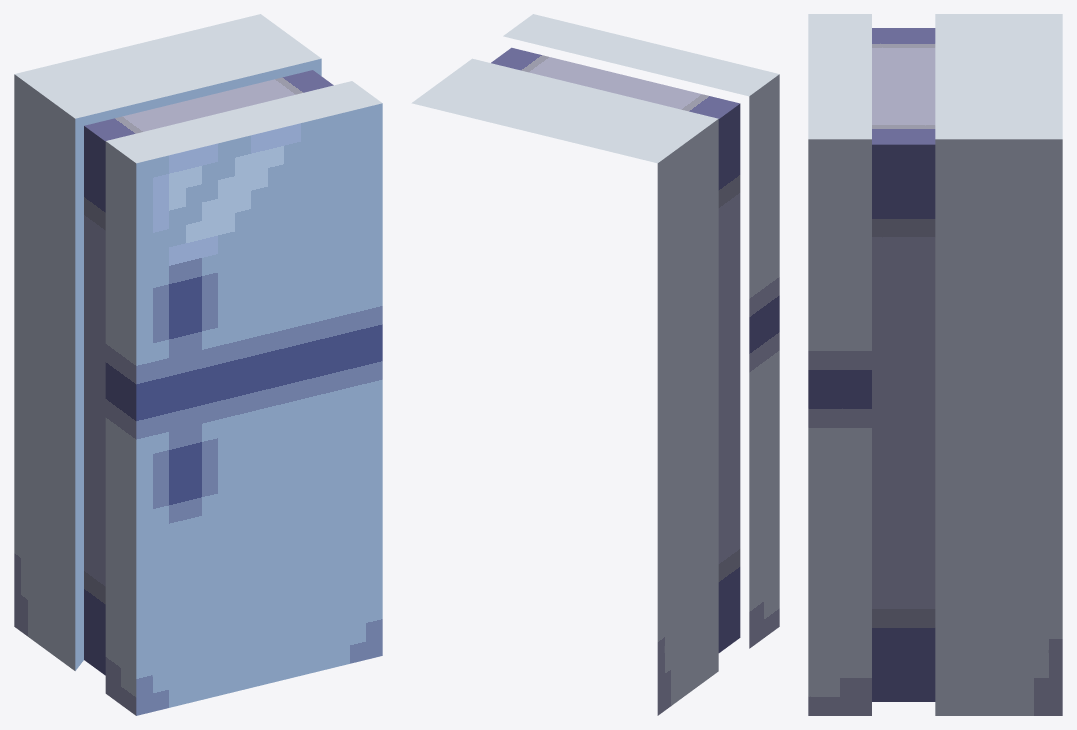
3 views of the same model, side by side, from view 1: azimuth 30°, elevation 25°; view 2: azimuth 150°, elevation 25°; view 3: azimuth 270°, elevation 25° (orthographic). The views are drawn at different scales.
Parts seen in each view (by area): view 1: ref01; view 2: ref01; view 3: ref01.
Boxes of the visible parts, <box> form: ref01: <box>14,14,382,715</box>; ref01: <box>411,14,779,715</box>; ref01: <box>808,14,1062,715</box>.
Bounding box in the file's own units: 0.875 × 1.88 × 0.75.
1 material, 1 textured.
